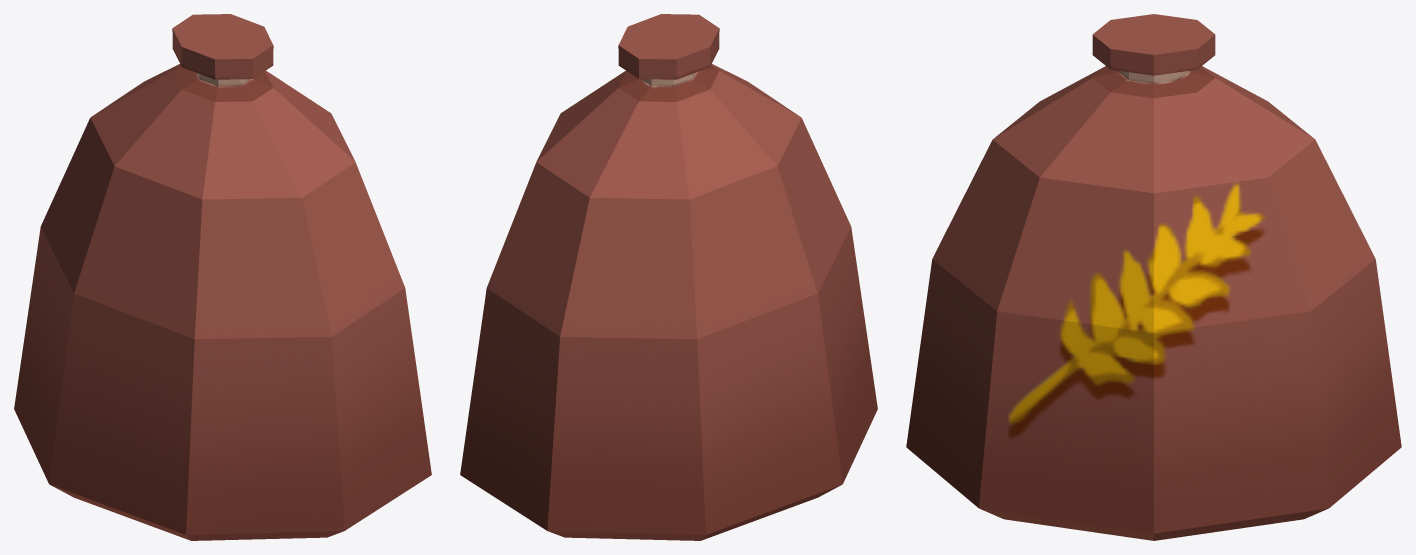
Rendered from Asset_Wheat.fbx.
3 views of the same model, side by side, from view 1: azimuth 30°, elevation 25°; view 2: azimuth 150°, elevation 25°; view 3: azimuth 270°, elevation 25° (orthographic).
Visible parts, largest first — view 1: pCylinder1; view 2: pCylinder1; view 3: pCylinder1.
Boxes of the visible parts, x1,y1,x2,y2 form: pCylinder1: [14, 14, 431, 540]; pCylinder1: [460, 14, 877, 540]; pCylinder1: [906, 14, 1401, 540].
Bounding box in the file's own units: 21.27 × 24.83 × 25.78.
